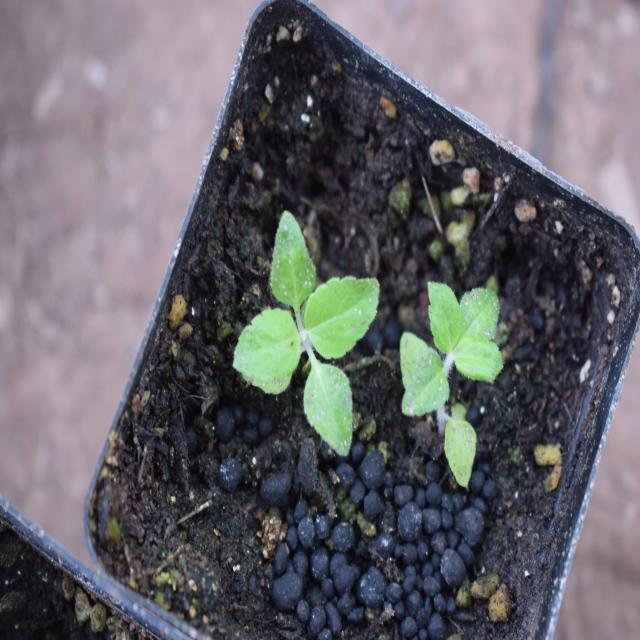billygoat_weed: (234, 206, 394, 454), (389, 250, 498, 478)
